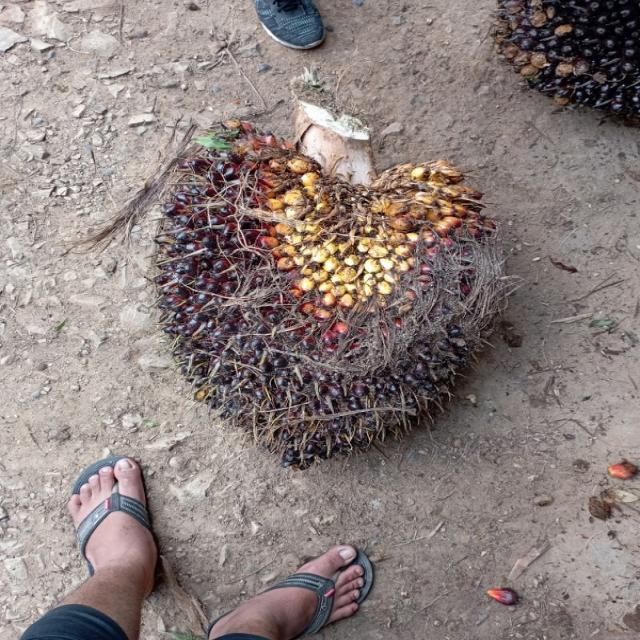fraksi 00: (148, 122, 501, 469)
